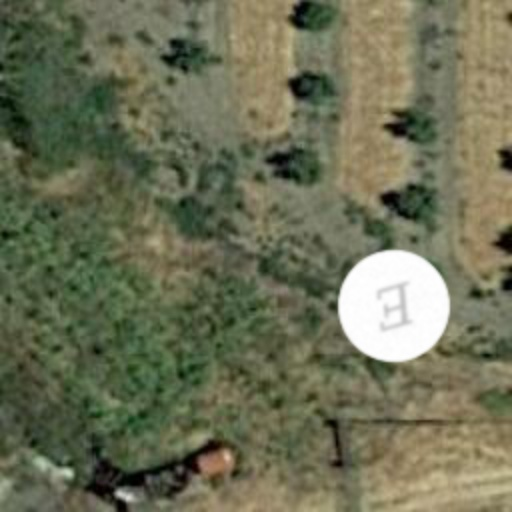circle: (324, 236, 464, 376)
